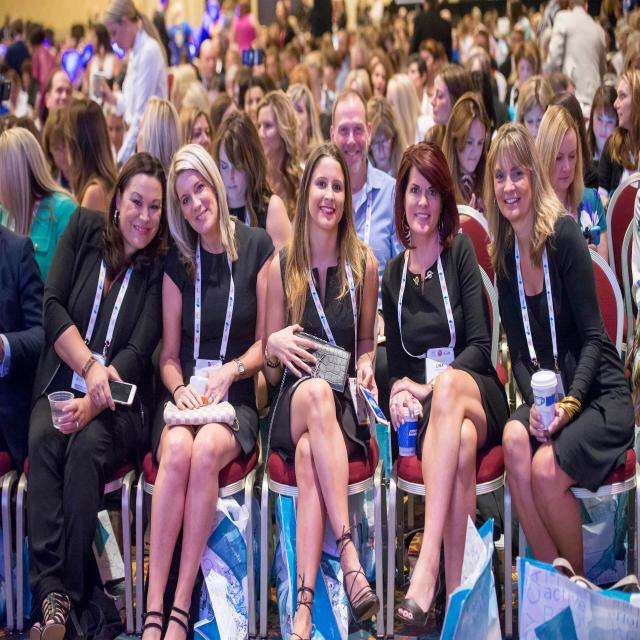body: (0, 0, 640, 136), (481, 119, 637, 579), (22, 150, 167, 640), (139, 143, 276, 639), (381, 136, 512, 639), (259, 136, 383, 639), (328, 86, 407, 461), (0, 125, 80, 285), (534, 102, 611, 268), (212, 108, 295, 258), (99, 0, 169, 170), (0, 223, 46, 472), (440, 87, 493, 227), (254, 88, 305, 233), (595, 65, 640, 217), (61, 97, 118, 210), (424, 62, 476, 152), (283, 81, 326, 186), (134, 94, 182, 184), (365, 93, 411, 181), (583, 84, 618, 190), (80, 22, 122, 110), (514, 73, 556, 146), (176, 102, 218, 164), (102, 99, 136, 175), (504, 41, 540, 105), (42, 67, 74, 126), (238, 75, 268, 128), (198, 38, 221, 104), (406, 53, 430, 114), (46, 137, 70, 190), (369, 59, 391, 99)
